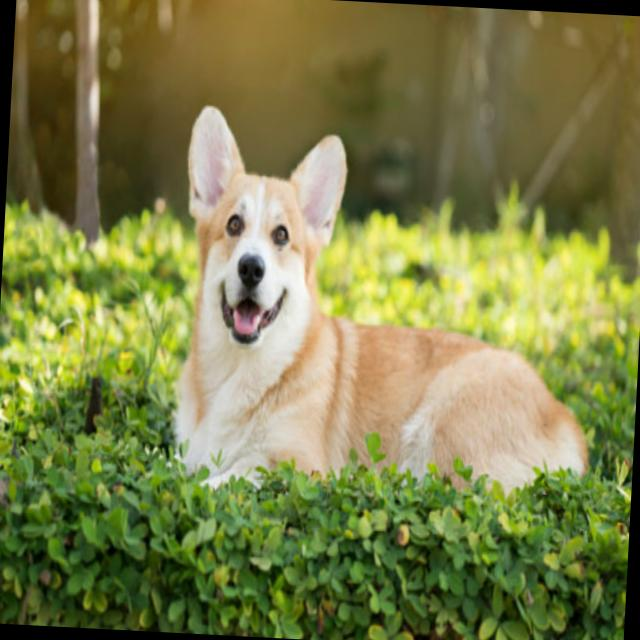dogs: (168, 100, 608, 507)
